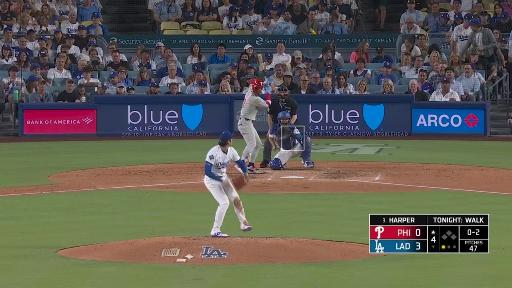pitcher: (204, 131, 254, 238)
